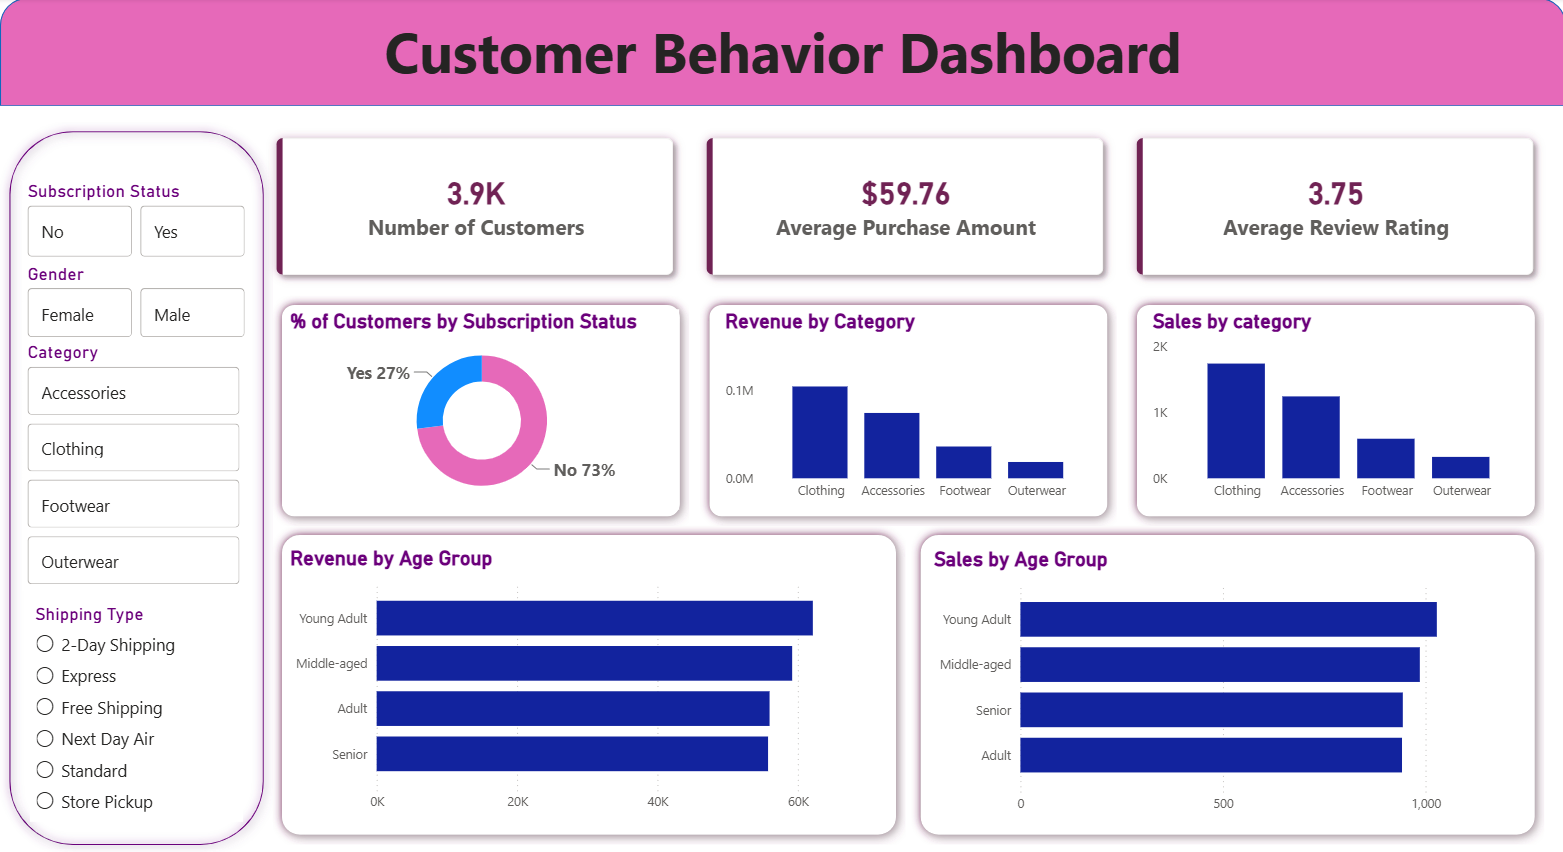

The page's visual inventory and layout, read from the dashboard file:
{"tool":"powerbi","page":{"name":"Page 1","canvas":[1500,820],"ordinal":0},"visuals":[{"type":"cardVisual","fields":{"Data":["public customer.Number of Customers","public customer.Average Purchase Amount","public customer.Average Review Rating"]},"box":[235.7,104.9,1264.5,189.4],"z":0},{"type":"shape","box":[0,0,1500.3,103.6],"z":1000},{"type":"textbox","box":[0,9.5,1500.3,95.4],"z":2000},{"type":"shape","box":[261.6,284.8,399.3,220.7],"z":3000},{"type":"donutChart","title":"% of Customers by Subscription Status","fields":{"Category":["public customer.subscription_status"],"Y":["CountNonNull(public customer.customer_id)"]},"box":[272.5,298.4,377.5,192.1],"z":4000},{"type":"shape","box":[671.1,284.8,399.3,220.7],"z":5000},{"type":"shape","box":[1080.6,284.8,399.3,220.7],"z":6000},{"type":"clusteredColumnChart","title":"Revenue by Category","fields":{"Y":["Sum(public customer.purchase_amount)"],"Category":["public customer.category"]},"box":[689.5,298.4,363.8,192.1],"z":7000},{"type":"clusteredColumnChart","title":"Sales by category","fields":{"Y":["CountNonNull(public customer.customer_id)"],"Category":["public customer.category"]},"box":[1099.7,298.4,363.8,192.1],"z":8000},{"type":"shape","box":[0,118.6,261.6,701.8],"z":9000},{"type":"advancedSlicerVisual","title":"Subscription Status","fields":{"Values":["public customer.subscription_status"]},"box":[21.8,174.4,218,79],"z":10000},{"type":"advancedSlicerVisual","title":"Gender","fields":{"Values":["public customer.gender"]},"box":[21.8,253.5,218,76.3],"z":11000},{"type":"advancedSlicerVisual","title":"Category","fields":{"Values":["public customer.category"]},"box":[21.8,329.8,213.9,238.5],"z":12000},{"type":"listSlicer","fields":{"Values":["public customer.shipping_type"]},"box":[28.6,579.1,204.4,209.8],"z":13000},{"type":"shape","box":[261.6,505.5,606.4,305.2],"z":15000},{"type":"clusteredBarChart","title":"Revenue by Age Group","fields":{"Y":["Sum(public customer.purchase_amount)"],"Category":["public customer.age_group"]},"box":[272.5,526,573.7,263],"z":15001},{"type":"shape","box":[873.5,505.5,606.4,305.2],"z":15002},{"type":"clusteredBarChart","title":"Sales by Age Group","fields":{"Y":["CountNonNull(public customer.customer_id)"],"Category":["public customer.age_group"]},"box":[889.8,527.3,573.7,263],"z":15003}]}

Visuals, with their boxes in screenshot pixels (x1, y1, x2, y2), scaled from the page's 1500x820 canvas onto the 1563x852 screenshot:
cardVisual - public customer.Number of Customers x public customer.Average Purchase Amount: (246,109,1562,306)
shape: (0,0,1562,108)
textbox: (0,10,1562,109)
shape: (273,296,689,525)
"% of Customers by Subscription Status" donutChart: (284,310,677,510)
shape: (699,296,1115,525)
shape: (1126,296,1542,525)
"Revenue by Category" clusteredColumnChart: (718,310,1098,510)
"Sales by category" clusteredColumnChart: (1146,310,1525,510)
shape: (0,123,273,851)
"Subscription Status" advancedSlicerVisual: (23,181,250,263)
"Gender" advancedSlicerVisual: (23,263,250,343)
"Category" advancedSlicerVisual: (23,343,246,590)
listSlicer - public customer.shipping_type: (30,602,243,820)
shape: (273,525,904,842)
"Revenue by Age Group" clusteredBarChart: (284,547,882,820)
shape: (910,525,1542,842)
"Sales by Age Group" clusteredBarChart: (927,548,1525,821)
